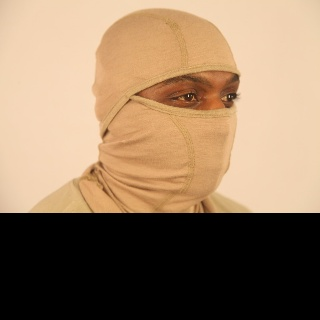without_mask: (133, 69, 243, 109)
